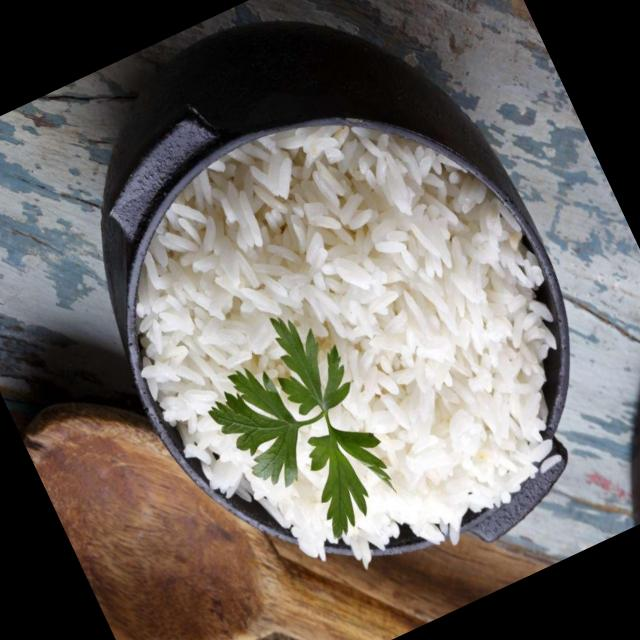rice: (133, 127, 553, 553)
